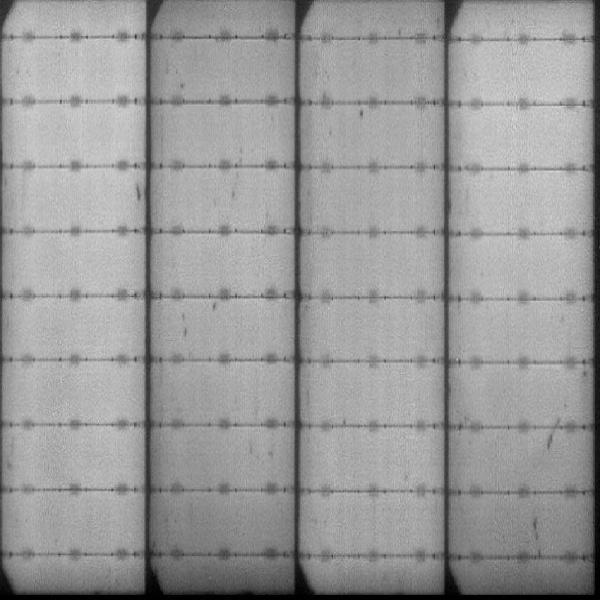scratch: (173, 302, 218, 337), (544, 415, 563, 451), (530, 511, 543, 561), (127, 180, 146, 203)
